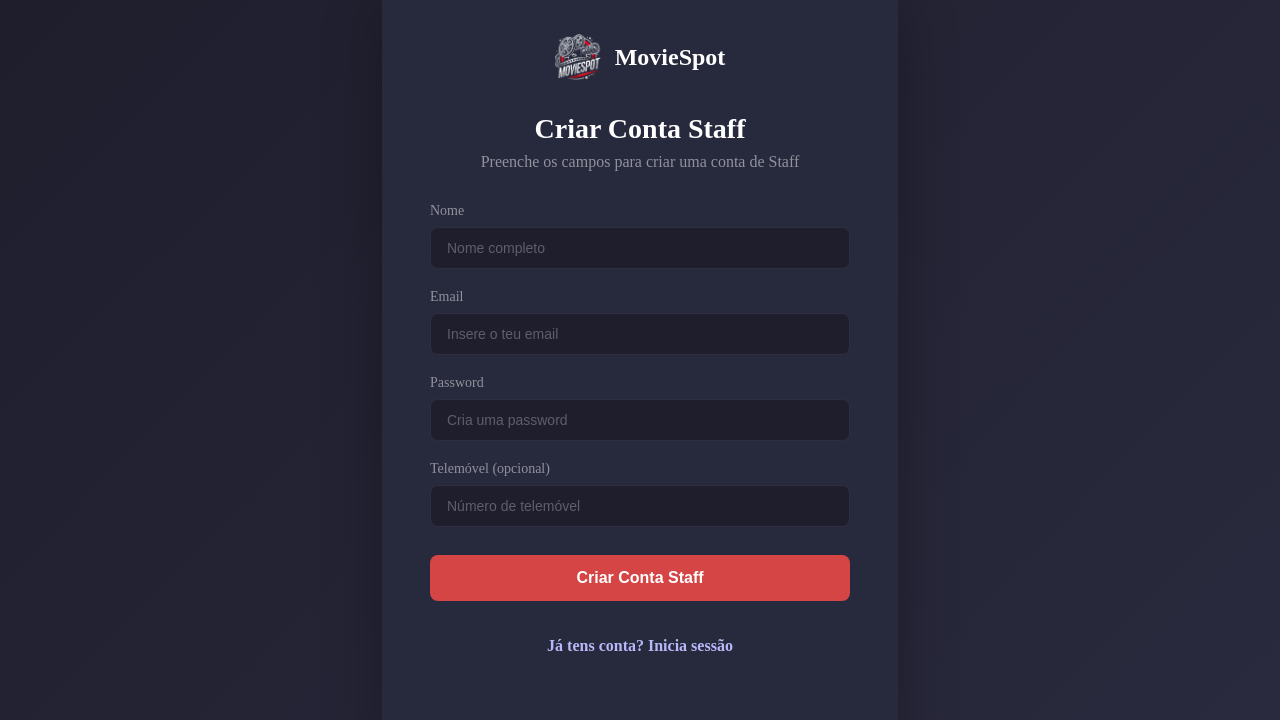
Test case: Página de Registo (RegisterComponent) › deve mostrar erro de validação se tentar submeter vazio
Tenta submeter sem preencher nada
Step 1. Click the submit button → point(640, 578), box [430,555,850,601]
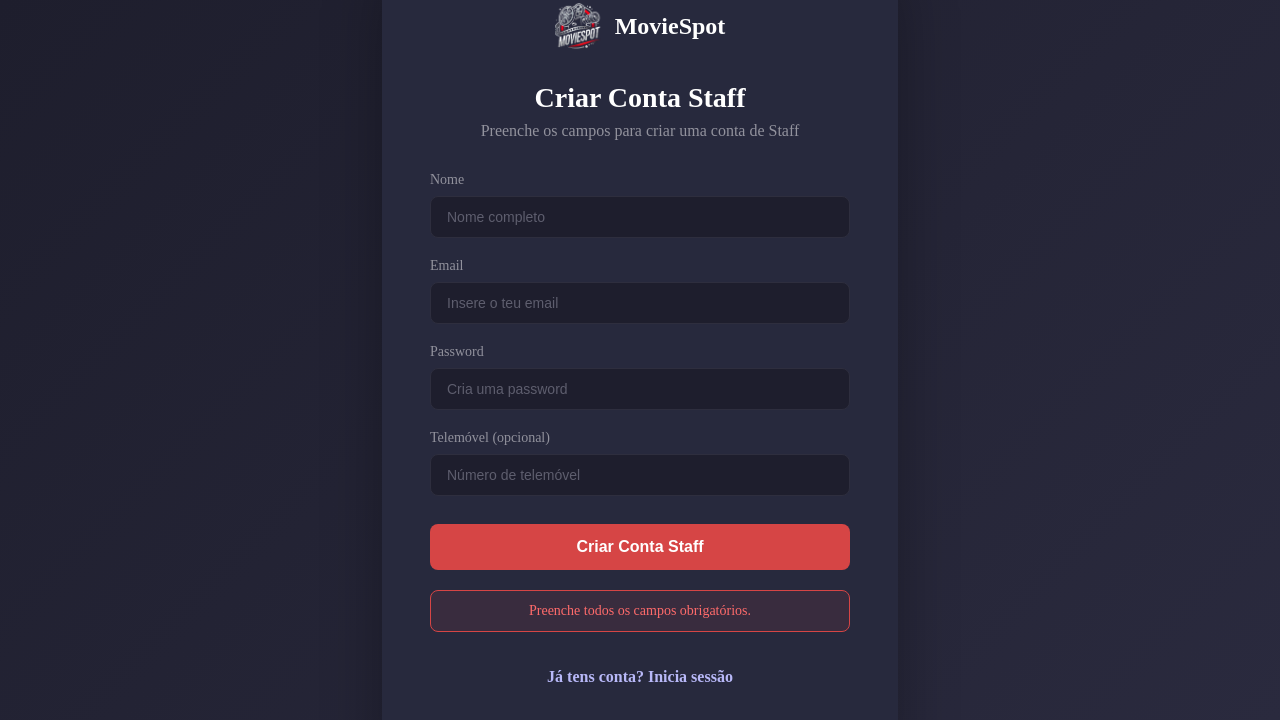
Check: the text "Preenche todos os campos obrigatórios." is shown, box [430,590,850,632]
Check: the text with class "error-message" reads "Preenche todos os campos obrigatórios.", box [529,603,751,618]
